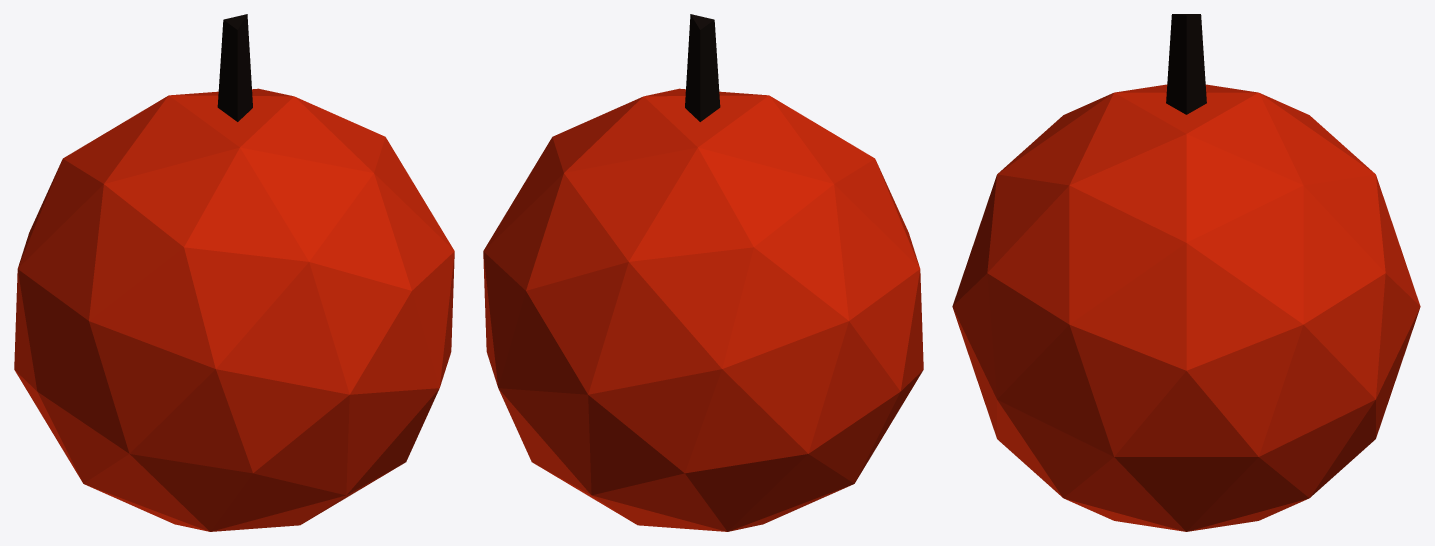
The model's file is naranja.FBX.
The picture shows the model from 3 angles, left to right: view 1: azimuth 30°, elevation 25°; view 2: azimuth 150°, elevation 25°; view 3: azimuth 270°, elevation 25°; orthographic projection.
Parts seen in each view (by area): view 1: naranja; view 2: naranja; view 3: naranja.
Part boxes in pixels (bbox=[...]): naranja: bbox=[14, 14, 454, 531]; naranja: bbox=[483, 14, 923, 531]; naranja: bbox=[952, 14, 1420, 531].
Size of the model in its own units: 8.09 by 9.66 by 8.2.
